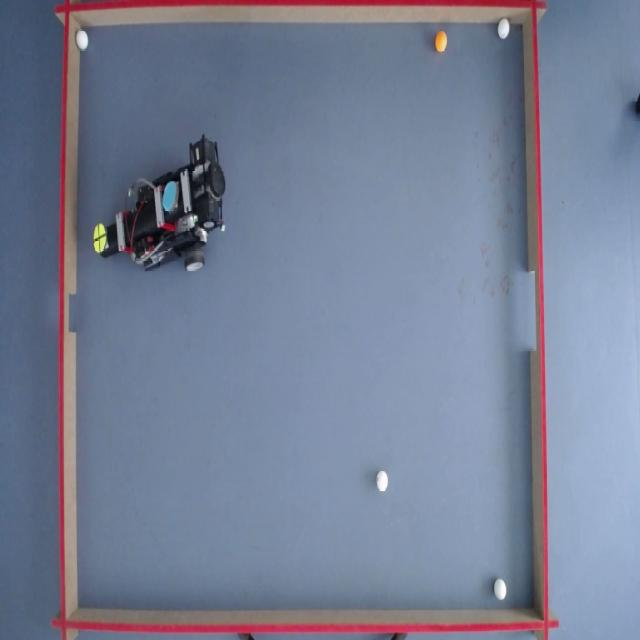orange: (435, 32, 449, 52)
robot: (91, 144, 229, 273)
robot-front: (92, 224, 107, 252)
robot-rear: (160, 180, 178, 212)
white: (495, 578, 509, 602), (498, 18, 512, 39), (376, 470, 388, 492), (77, 30, 90, 50)
